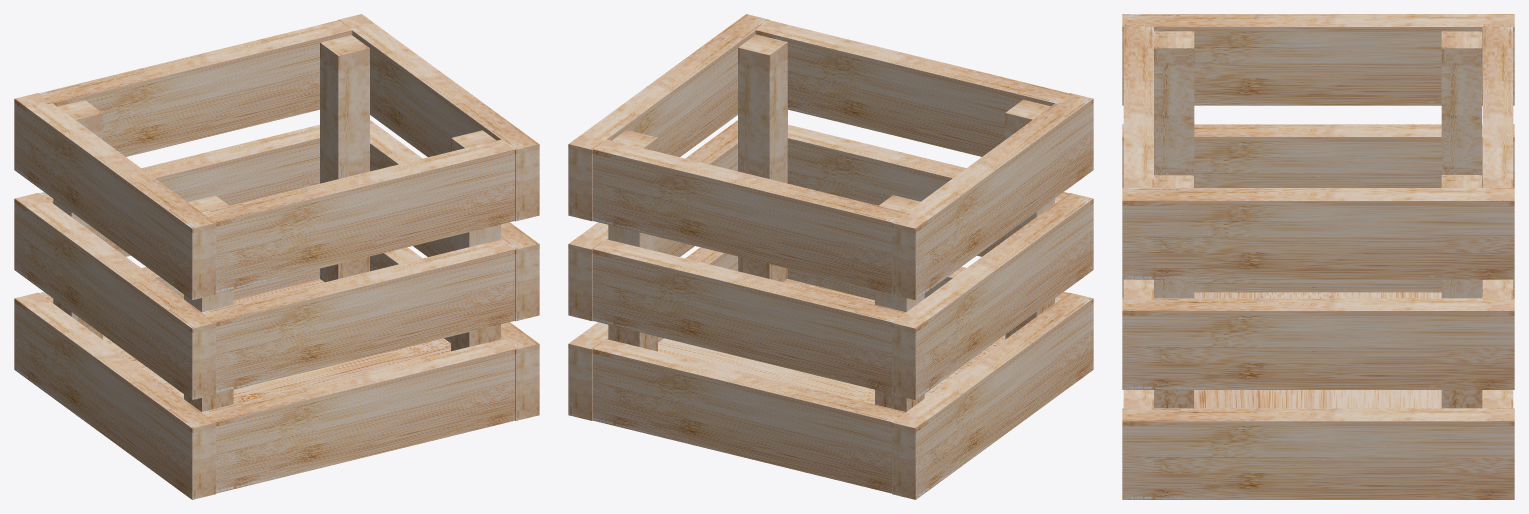
The picture shows the model from 3 angles, left to right: view 1: azimuth 30°, elevation 25°; view 2: azimuth 150°, elevation 25°; view 3: azimuth 270°, elevation 25°; orthographic projection. The views are drawn at different scales.
Visible parts, largest first — view 1: Box014, Box015, Box013, Box012, Box001, Box002, Box003, Box008, Box011, Box018, Plane001, Box009 (+5 smaller); view 2: Box012, Box010, Box011, Box013, Box002, Box001, Box003, Box008, Box015, Box019, Box009, Plane001 (+5 smaller); view 3: Box008, Box007, Box009, Box003, Box002, Plane001, Box016, Box017, Box012, Box013, Box001, Box018 (+5 smaller).
Part boxes in pixels (x1,y1,x2,y2): Box014: (197, 338, 517, 493); Box015: (198, 238, 516, 393); Box013: (202, 139, 514, 293); Box012: (39, 20, 352, 156); Box001: (14, 292, 215, 499); Box002: (14, 193, 215, 399); Box003: (14, 93, 215, 300); Box008: (338, 14, 539, 221); Box011: (37, 124, 319, 256); Box018: (320, 35, 369, 282); Plane001: (103, 279, 450, 404); Box009: (370, 120, 539, 321); Box012: (590, 139, 910, 293); Box010: (593, 338, 909, 493); Box011: (592, 239, 909, 393); Box013: (755, 20, 1073, 156); Box002: (892, 193, 1093, 399); Box001: (892, 292, 1093, 499); Box003: (892, 93, 1093, 300); Box008: (568, 14, 769, 221); Box015: (787, 124, 1068, 256); Box019: (738, 34, 787, 281); Box009: (568, 120, 737, 321); Plane001: (658, 279, 1005, 404); Box008: (1122, 188, 1514, 279); Box007: (1122, 408, 1514, 499); Box009: (1122, 298, 1514, 389); Box003: (1122, 14, 1514, 105); Box002: (1122, 124, 1514, 187); Plane001: (1194, 292, 1482, 408); Box016: (1154, 31, 1194, 297); Box017: (1441, 31, 1481, 174); Box012: (1482, 24, 1513, 189); Box013: (1123, 24, 1153, 187); Box001: (1122, 279, 1514, 298); Box018: (1441, 175, 1481, 408).
Bounding box in the file's own units: 38.46 × 28.69 × 34.1.
Materials: 1 (1 with a texture image).
